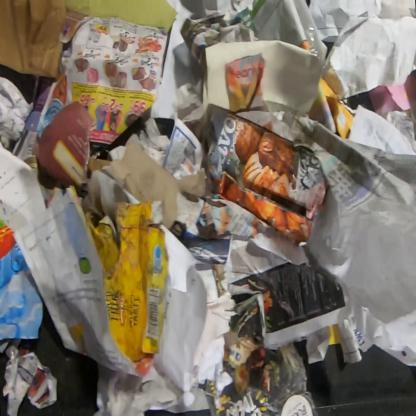cardboard: (85, 200, 169, 365), (205, 299, 320, 415), (0, 0, 66, 81)
soft_plastic: (339, 180, 415, 325), (304, 23, 328, 77)
